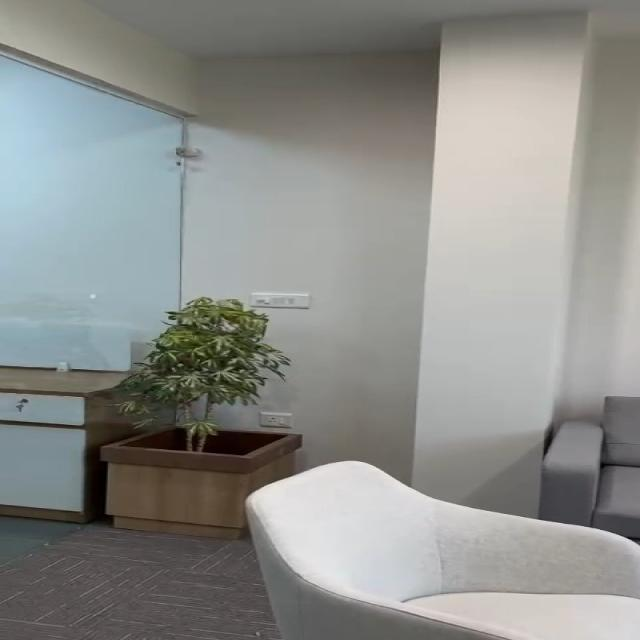floor: (0, 516, 269, 640)
furniture: (246, 463, 640, 640), (125, 290, 254, 538), (0, 348, 121, 528), (510, 372, 640, 508)
wall: (214, 46, 640, 316), (0, 71, 200, 309), (268, 317, 516, 467)
